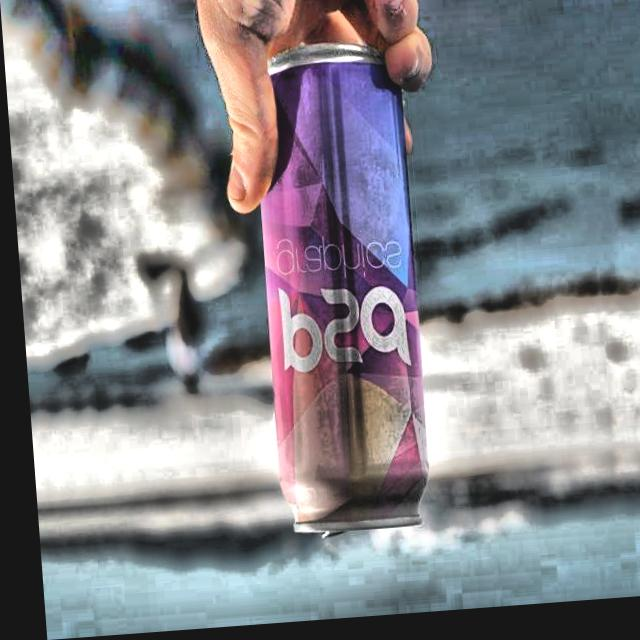can: (236, 39, 437, 554)
